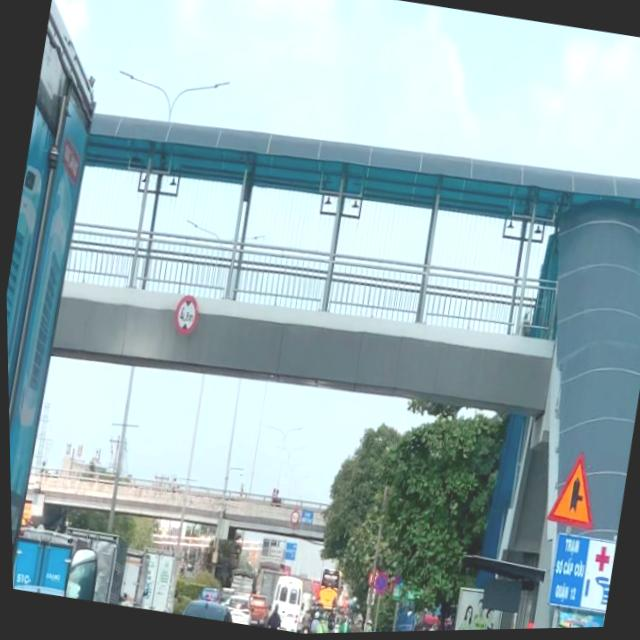Cam dung xe va do xe: (369, 570, 388, 598)
Giao nhau voi duong khong uu tien ben phai: (540, 447, 604, 535)
Han che chieu cao: (168, 293, 200, 337)
